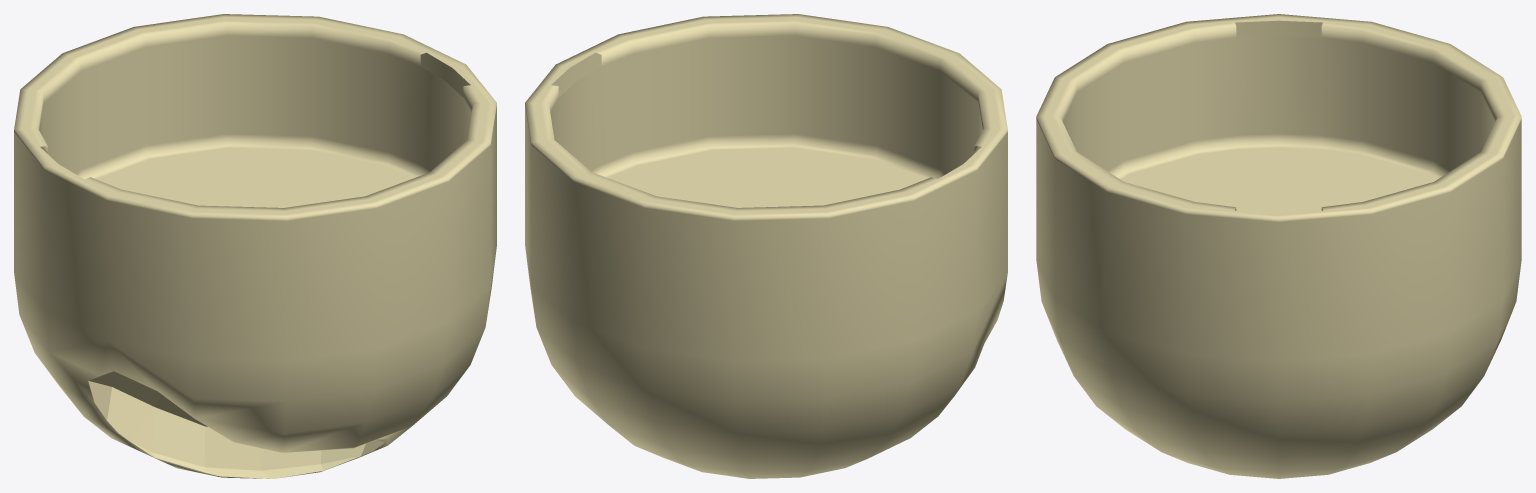
File: cupheadHEAD.fbx
3 renders of one model, left to right at view 1: azimuth 30°, elevation 25°; view 2: azimuth 150°, elevation 25°; view 3: azimuth 270°, elevation 25°, orthographic.
Visible parts, largest first — view 1: CupHEAD.001; view 2: CupHEAD.001; view 3: CupHEAD.001.
Boxes of the visible parts, <box> form: CupHEAD.001: <box>14,14,496,478</box>; CupHEAD.001: <box>525,14,1007,478</box>; CupHEAD.001: <box>1036,14,1521,478</box>.
Size of the model in its own units: 38.81 by 29.43 by 38.81.
